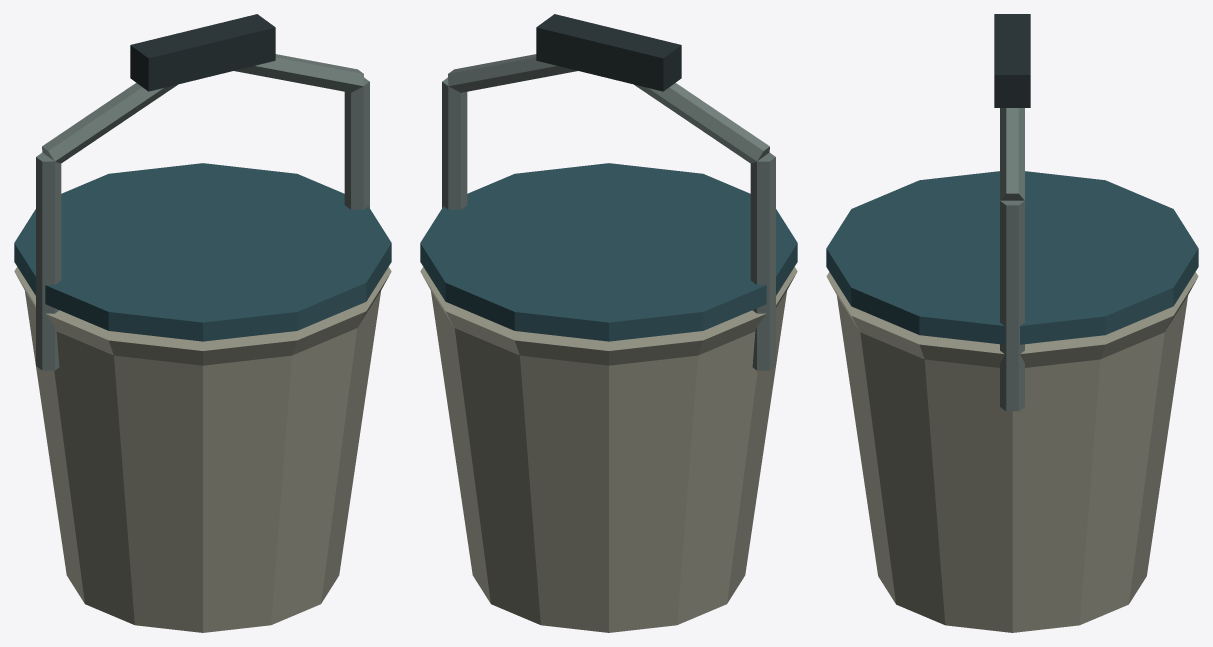
3 renders of one model, left to right at view 1: azimuth 30°, elevation 25°; view 2: azimuth 150°, elevation 25°; view 3: azimuth 270°, elevation 25°, orthographic.
Visible parts, largest first — view 1: a92; view 2: a92; view 3: a92.
Boxes of the visible parts, bbox=[...] form: a92: bbox=[14, 14, 391, 632]; a92: bbox=[420, 14, 797, 632]; a92: bbox=[826, 14, 1198, 632].
Size of the model in its own units: 0.3608 by 0.5675 by 0.36.
